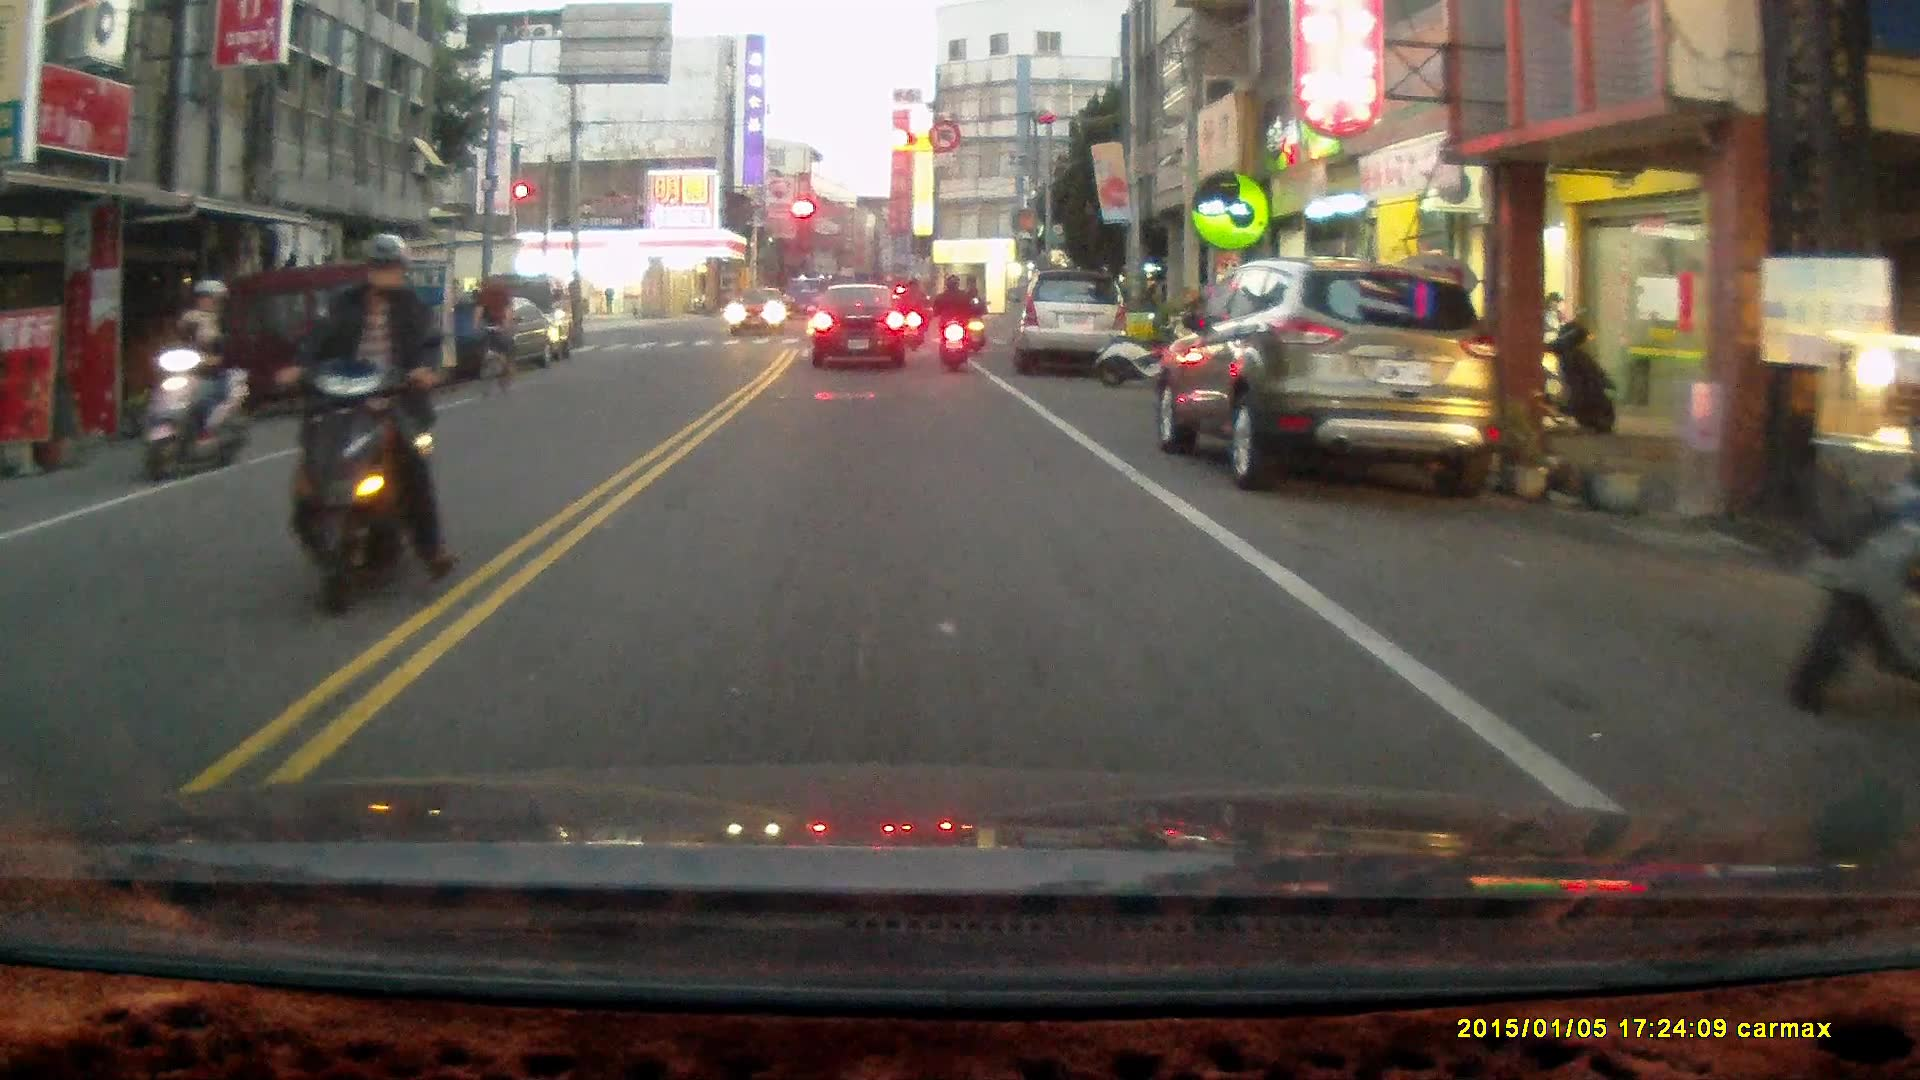rider: (263, 229, 455, 613), (138, 278, 251, 483), (471, 268, 516, 399), (928, 270, 975, 374), (896, 274, 928, 350), (961, 282, 988, 353)
vehicle: (1160, 255, 1495, 500), (1018, 270, 1132, 378), (814, 282, 913, 366), (721, 279, 785, 333)
